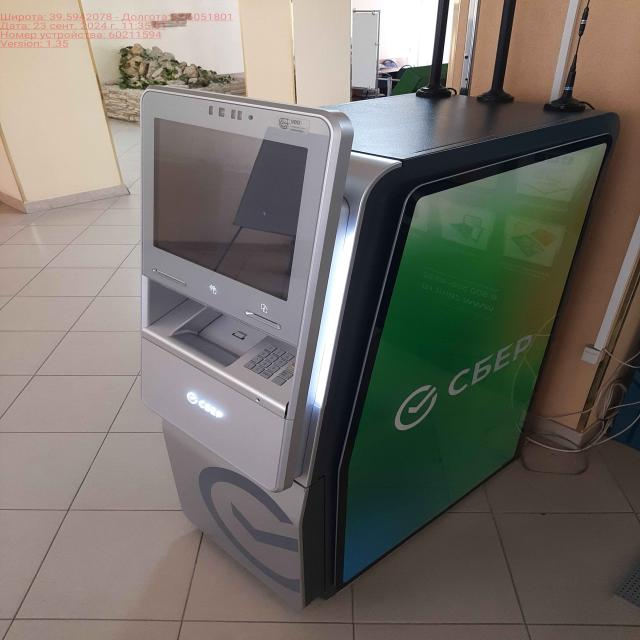bank: (128, 83, 622, 614)
